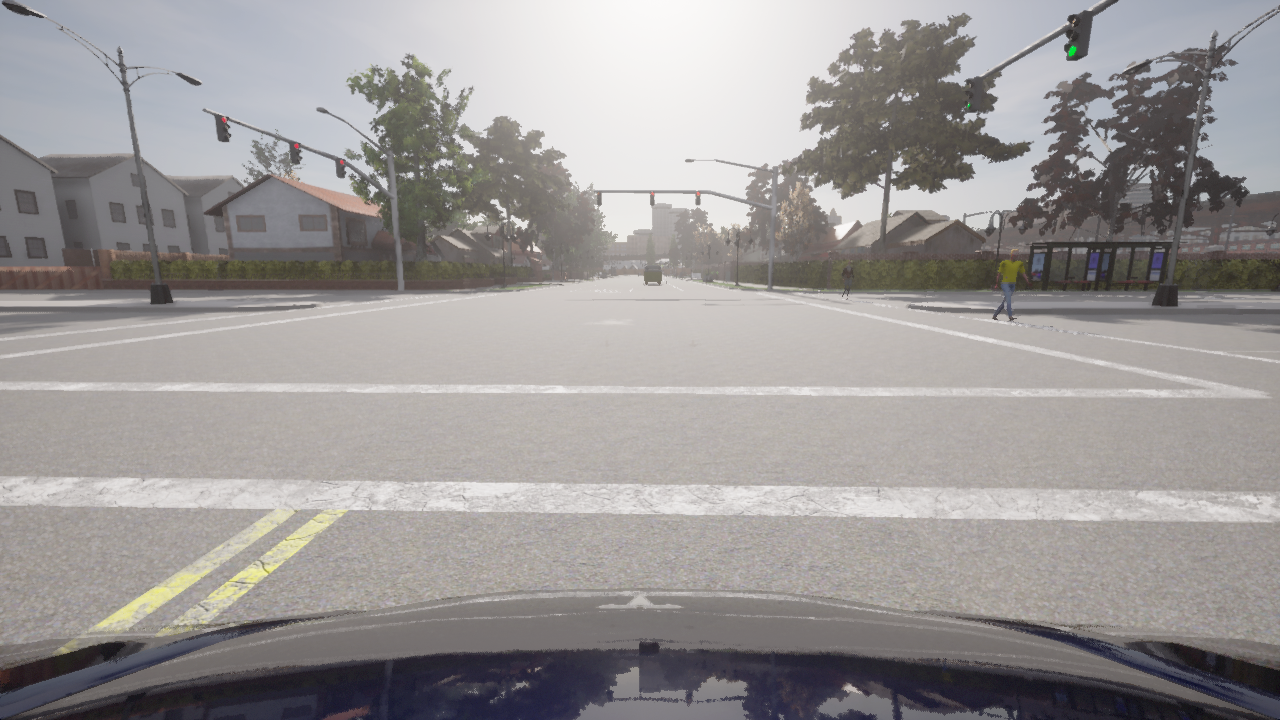cyclist: (0, 588, 1279, 719), (645, 266, 660, 283)
pedestrian: (991, 248, 1032, 321), (841, 261, 855, 299)
